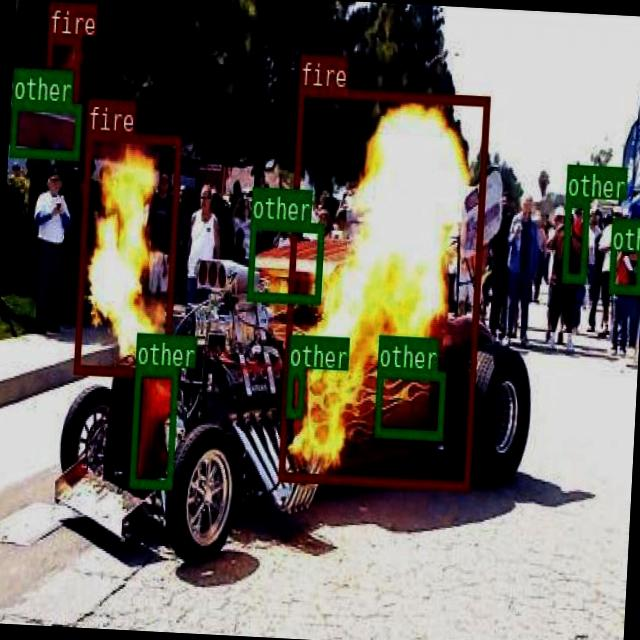fire: (278, 86, 489, 488), (73, 130, 181, 377), (43, 34, 80, 106)
